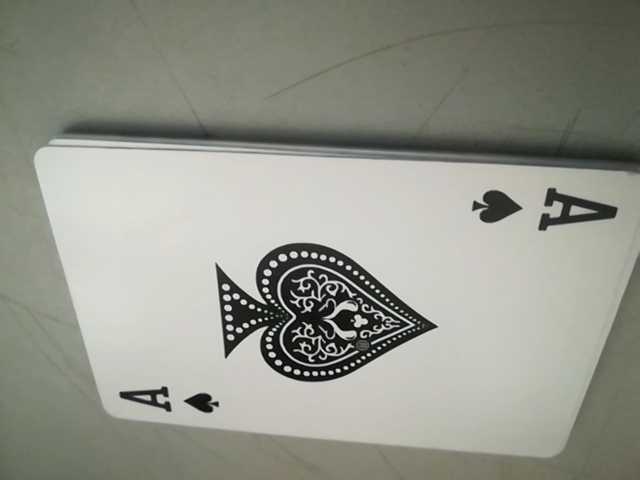ht a: (465, 173, 621, 244), (110, 380, 233, 420)
